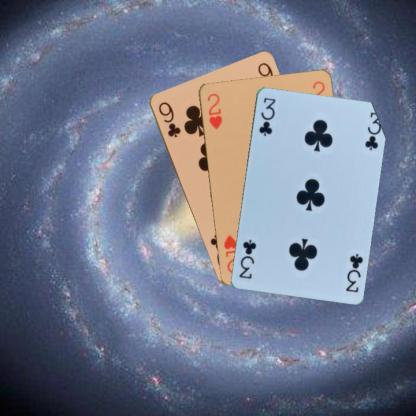2h: (205, 90, 223, 131)
3c: (343, 250, 364, 294), (256, 95, 277, 137)
9c: (155, 98, 182, 138)
